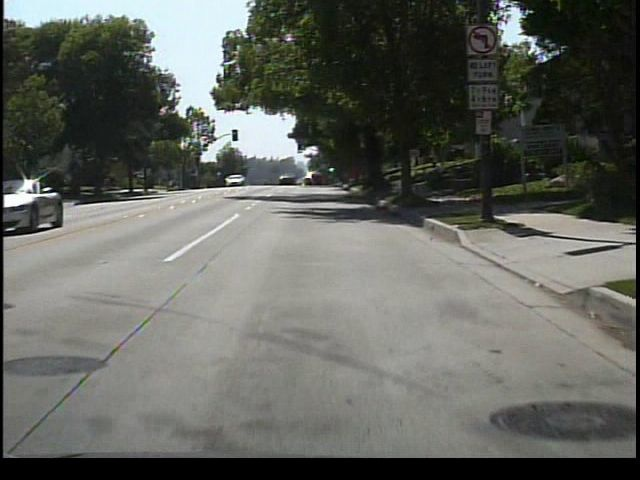person: (427, 155, 448, 192)
